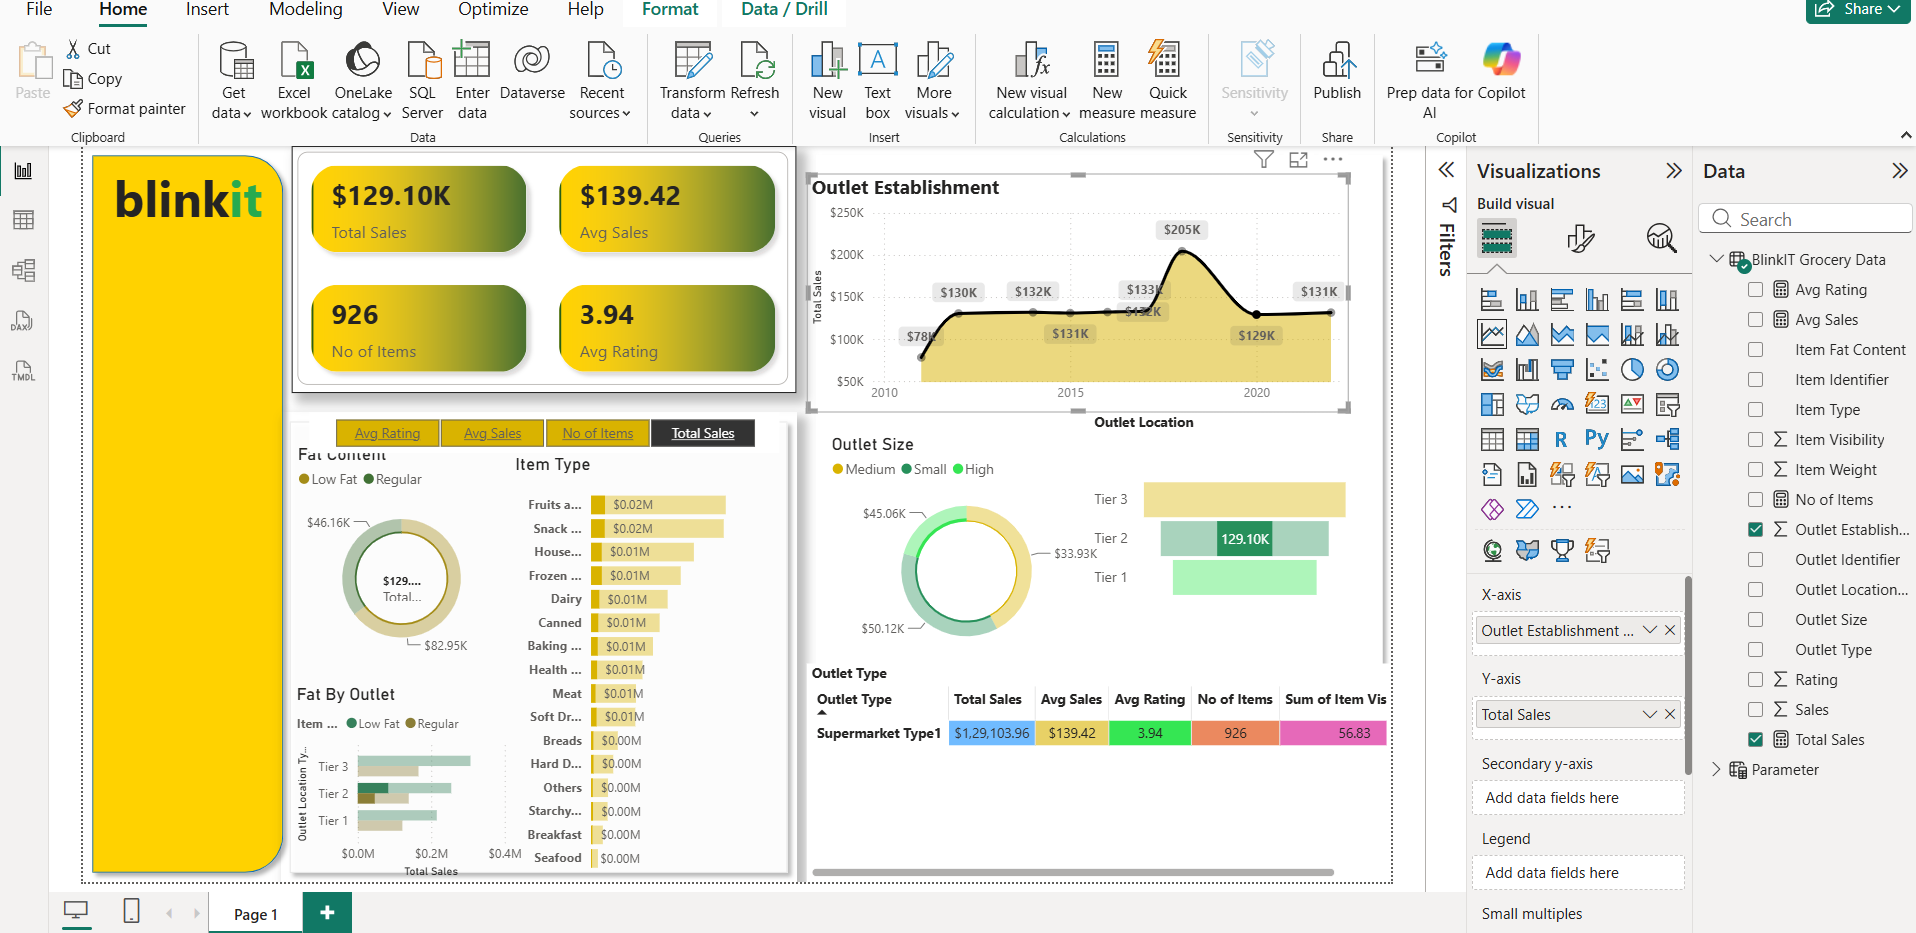

This screenshot's page, from the dashboard's own definition file:
{"tool":"powerbi","page":{"name":"Page 1","canvas":[1280,720],"ordinal":0},"visuals":[{"type":"shape","box":[0,0,205,720],"z":0},{"type":"textbox","box":[12.3,12.3,181.1,78.2],"z":1000},{"type":"cardVisual","fields":{"Data":["BlinkIT Grocery Data.Total Sales","BlinkIT Grocery Data.Avg Sales","BlinkIT Grocery Data.No of Items","BlinkIT Grocery Data.Avg Rating"]},"box":[204.5,0,494,241.5],"z":2000},{"type":"donutChart","title":"Fat Content","fields":{"Category":["BlinkIT Grocery Data.Item Fat Content"],"Y":["BlinkIT Grocery Data.Avg Rating","BlinkIT Grocery Data.Avg Sales","BlinkIT Grocery Data.No of Items","BlinkIT Grocery Data.Total Sales"]},"box":[204.2,278.8,212.8,231.1],"z":4000},{"type":"cardVisual","fields":{"Data":["BlinkIT Grocery Data.Total Sales"]},"box":[272.7,386.4,77,51.4],"z":6000},{"type":"clusteredBarChart","title":"Fat By Outlet","fields":{"Category":["BlinkIT Grocery Data.Outlet Location Type"],"Series":["BlinkIT Grocery Data.Item Fat Content"],"Y":["BlinkIT Grocery Data.Avg Rating"]},"box":[204.2,525.8,212.8,194.4],"z":7000},{"type":"barChart","title":"Item Type","fields":{"Category":["BlinkIT Grocery Data.Item Type"],"Y":["BlinkIT Grocery Data.Avg Rating","BlinkIT Grocery Data.Avg Sales","BlinkIT Grocery Data.No of Items","BlinkIT Grocery Data.Total Sales"]},"box":[418.2,278.8,264.1,441.4],"z":8000},{"type":"lineChart","title":"Outlet Establishment ","fields":{"Category":["BlinkIT Grocery Data.Outlet Establishment Year"],"Y":["BlinkIT Grocery Data.Total Sales"]},"box":[708,0,561.3,242.1],"z":10000},{"type":"donutChart","title":"Outlet Size","fields":{"Category":["BlinkIT Grocery Data.Outlet Size"],"Y":["BlinkIT Grocery Data.Avg Rating","BlinkIT Grocery Data.Avg Sales","BlinkIT Grocery Data.No of Items","BlinkIT Grocery Data.Total Sales"]},"box":[698.2,260.5,276.4,225],"z":11000},{"type":"funnel","title":"Outlet Location","fields":{"Category":["BlinkIT Grocery Data.Outlet Location Type"],"Y":["Sum(BlinkIT Grocery Data.Sales)"]},"box":[1007.6,260.5,272.7,225],"z":12000},{"type":"pivotTable","title":"Outlet Type","fields":{"Rows":["BlinkIT Grocery Data.Outlet Type"],"Values":["BlinkIT Grocery Data.Total Sales","BlinkIT Grocery Data.Avg Sales","BlinkIT Grocery Data.Avg Rating","BlinkIT Grocery Data.No of Items","Sum(BlinkIT Grocery Data.Item Visibility)"]},"box":[708,509.9,572.3,210.3],"z":13000}]}

Visuals, with their boxes on the page's 1280x720 design canvas (x1, y1, x2, y2). These are canvas units, not pixel positions in the 1916x933 screenshot, which may show the page scaled, cropped or inside an application window:
shape: box=[0, 0, 205, 720]
textbox: box=[12, 12, 193, 90]
cardVisual - BlinkIT Grocery Data.Total Sales x BlinkIT Grocery Data.Avg Sales: box=[204, 0, 698, 242]
"Fat Content" donutChart: box=[204, 279, 417, 510]
cardVisual - BlinkIT Grocery Data.Total Sales: box=[273, 386, 350, 438]
"Fat By Outlet" clusteredBarChart: box=[204, 526, 417, 720]
"Item Type" barChart: box=[418, 279, 682, 720]
"Outlet Establishment " lineChart: box=[708, 0, 1269, 242]
"Outlet Size" donutChart: box=[698, 260, 975, 486]
"Outlet Location" funnel: box=[1008, 260, 1280, 486]
"Outlet Type" pivotTable: box=[708, 510, 1280, 720]
